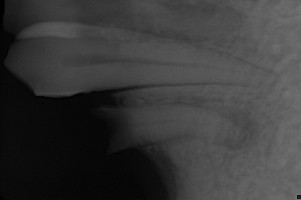Furcation Involvement: (220, 109, 260, 151)
